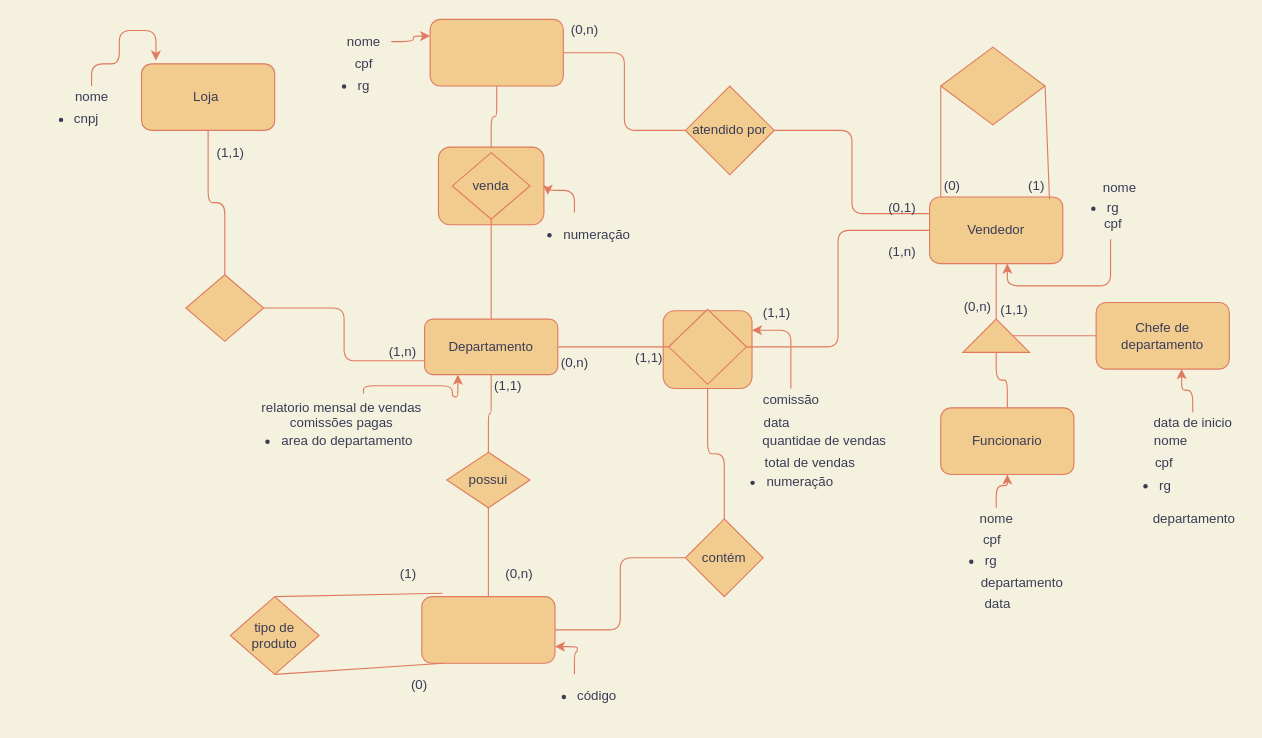
This 1262x738 diagram has some shape labels left out. Here are the shapes that lost their labels. From the top down, the box of each, then its label:
(429, 18, 563, 86): Cliente
(940, 46, 1045, 125): desligado
(185, 274, 264, 341): posuui
(668, 308, 746, 384): registro de vendas
(421, 596, 555, 663): Produto
